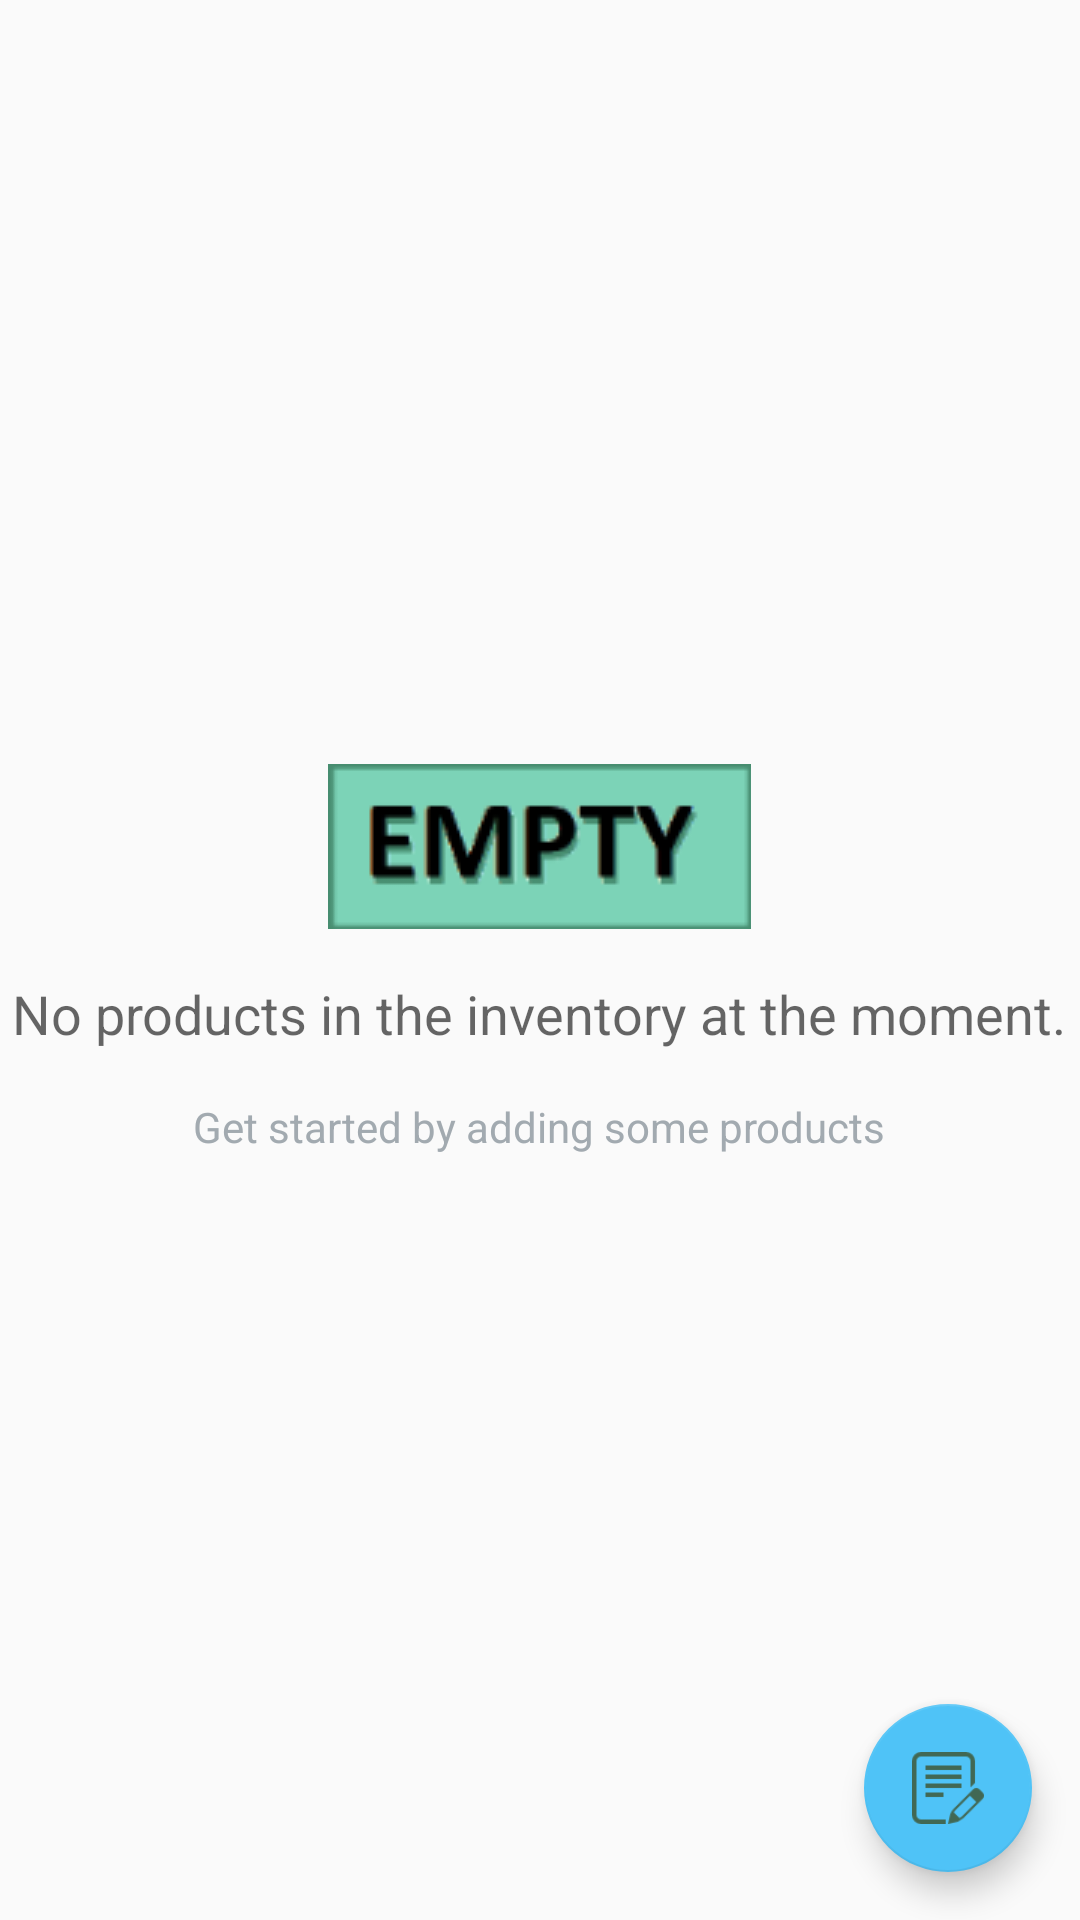

Where to tap for icons on this 1080 × 1920 app screen, as point (x, y):
add product: point (948, 1788)
